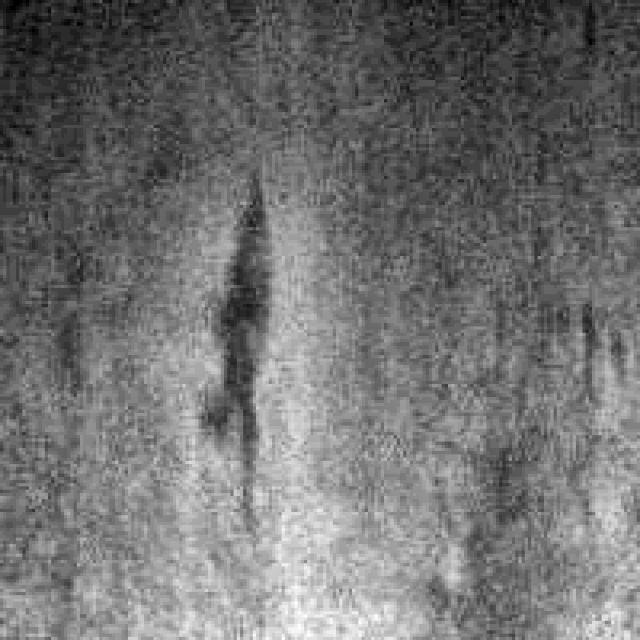Patches: (176, 169, 298, 532)
